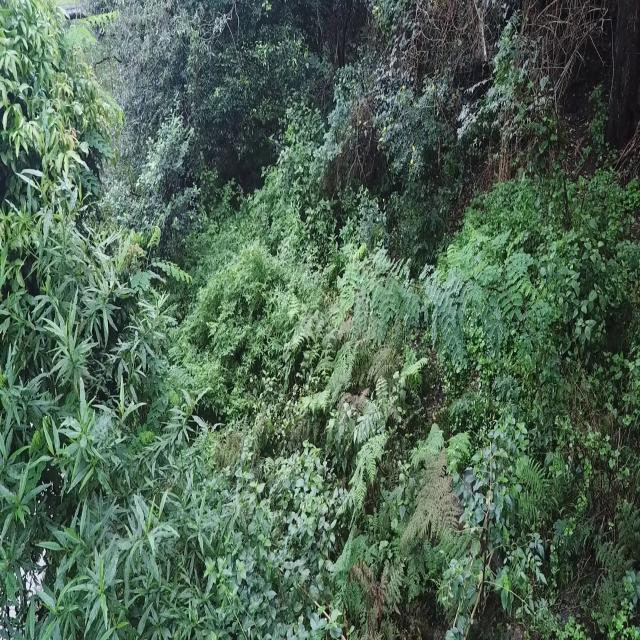Mysore-Thorn-Weed: (422, 264, 536, 369), (334, 235, 394, 336), (126, 222, 192, 292), (378, 257, 431, 337), (168, 344, 198, 390)
